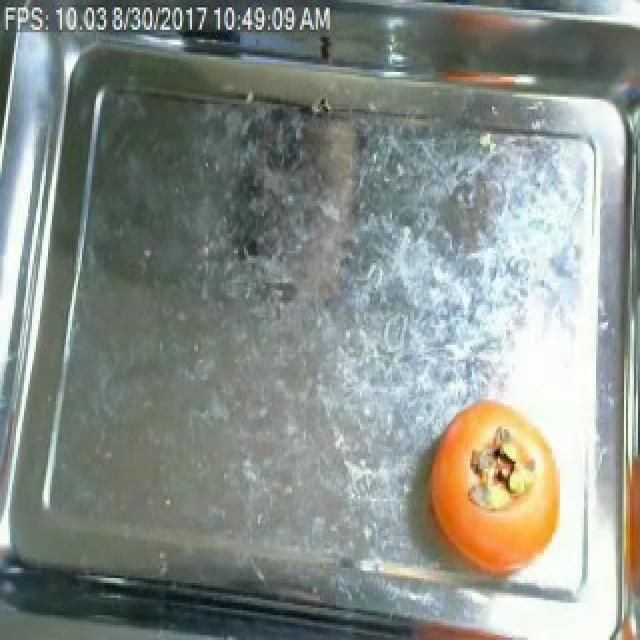Fruit: (420, 392, 568, 585), (386, 610, 570, 640)
